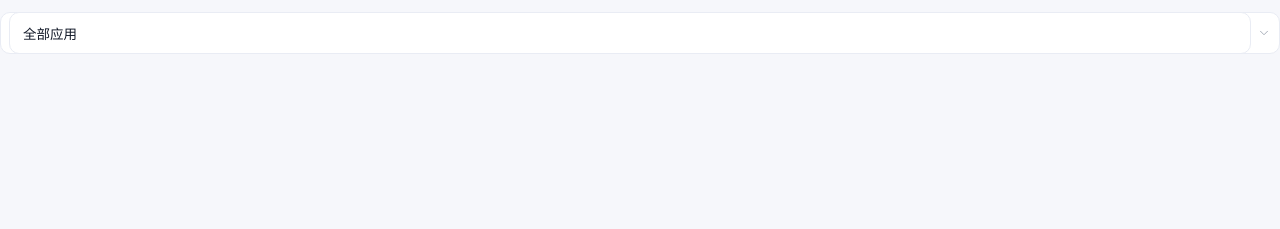
EntitySelect › searchable：聚焦即展开，输入即过滤，Enter 提交
This screenshot has width=1280, height=229.
Later steps or results of the test are not shown.
Click the dropdown at (630, 33), box [9, 12, 1251, 54]
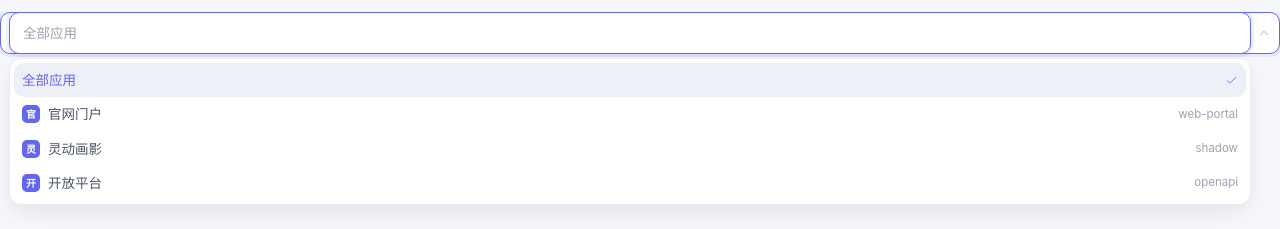
expect the list is shown: met
expect the number of options is 4: met, box [14, 63, 1246, 97]; [22, 105, 1238, 123]; [22, 140, 1238, 158]; [22, 174, 1238, 192]
Type "影" into the dropdown at (630, 33), box [9, 12, 1251, 54]
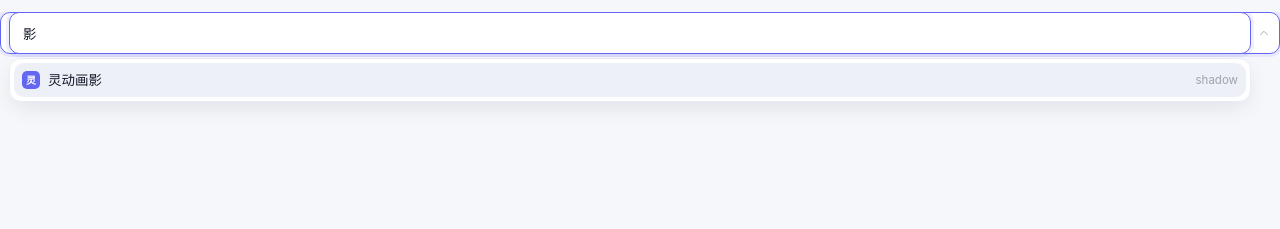
expect the option shows "灵动画影": met, box [14, 63, 1246, 97]
expect the number of options is 1: met, box [14, 63, 1246, 97]
